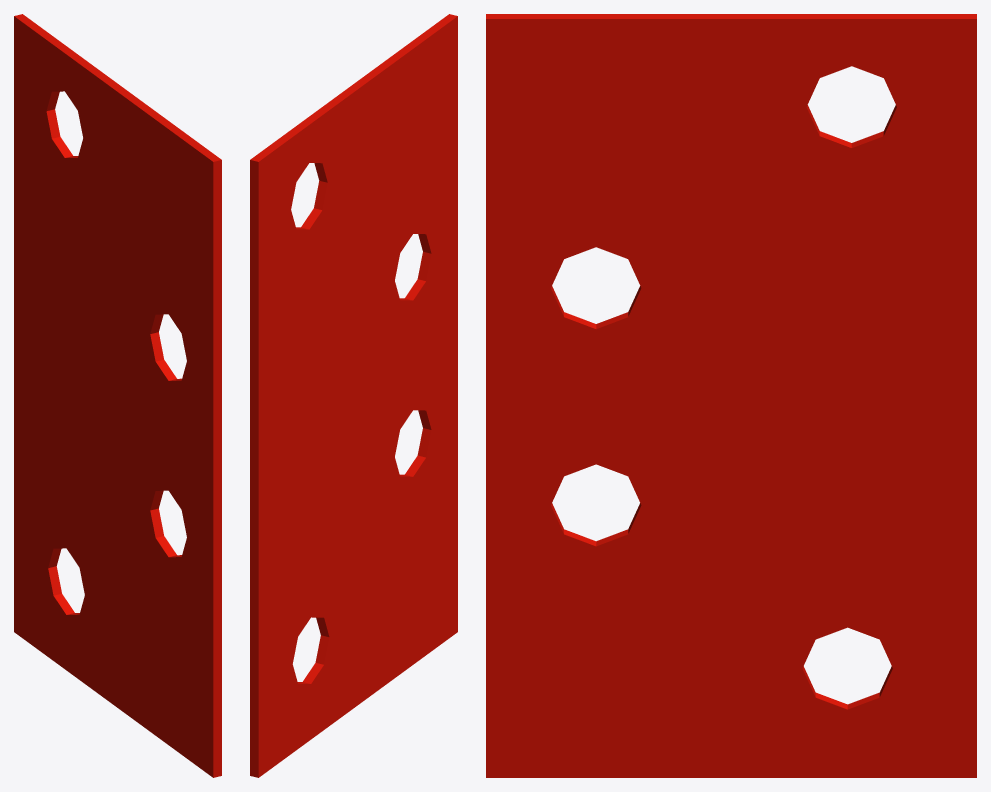
File: board02.fbx
The picture shows the model from 3 angles, left to right: view 1: azimuth 30°, elevation 25°; view 2: azimuth 150°, elevation 25°; view 3: azimuth 270°, elevation 25°; orthographic projection. The views are drawn at different scales.
Parts seen in each view (by area): view 1: Plane.009; view 2: Plane.009; view 3: Plane.009.
Boxes of the visible parts, box(x1,y1,x2,y2) form: Plane.009: box(14, 14, 221, 777); Plane.009: box(250, 14, 457, 777); Plane.009: box(486, 14, 976, 777).
Bounding box in the file's own units: 9 × 617 × 362.
